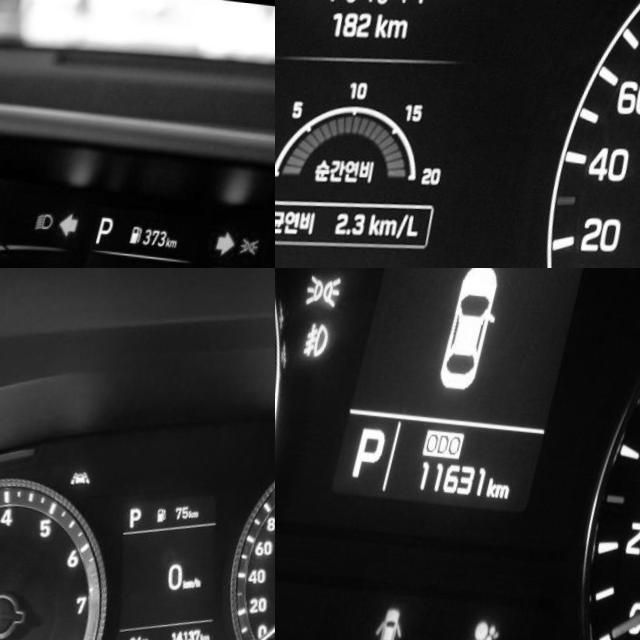LaneCenteringOff: (79, 464, 104, 484)
Low beam: (43, 207, 65, 227)
SideLamp: (249, 229, 270, 248)
